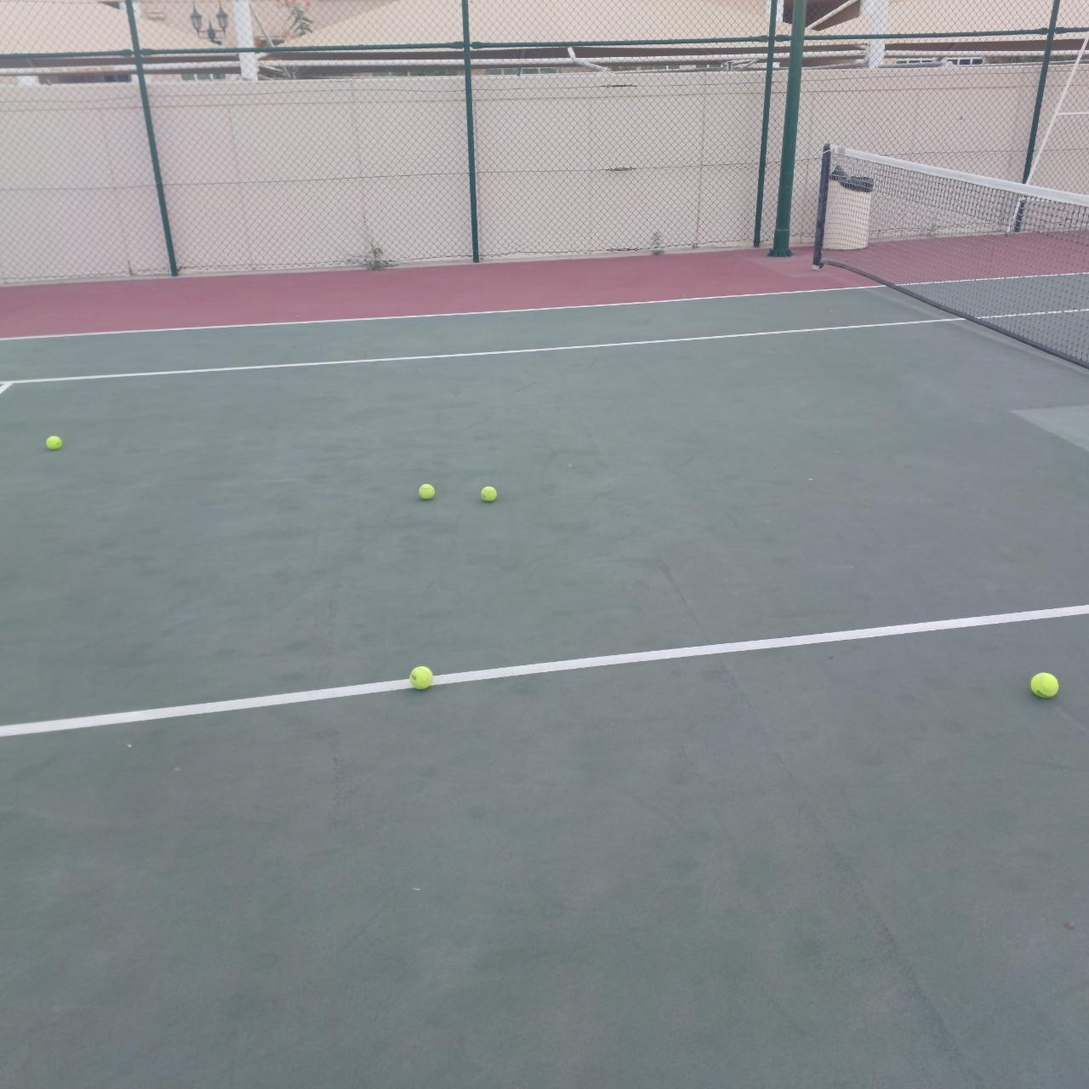tennis-ball: (1028, 669, 1059, 698), (408, 663, 433, 690), (478, 483, 498, 502), (416, 481, 435, 500), (43, 433, 62, 450)
